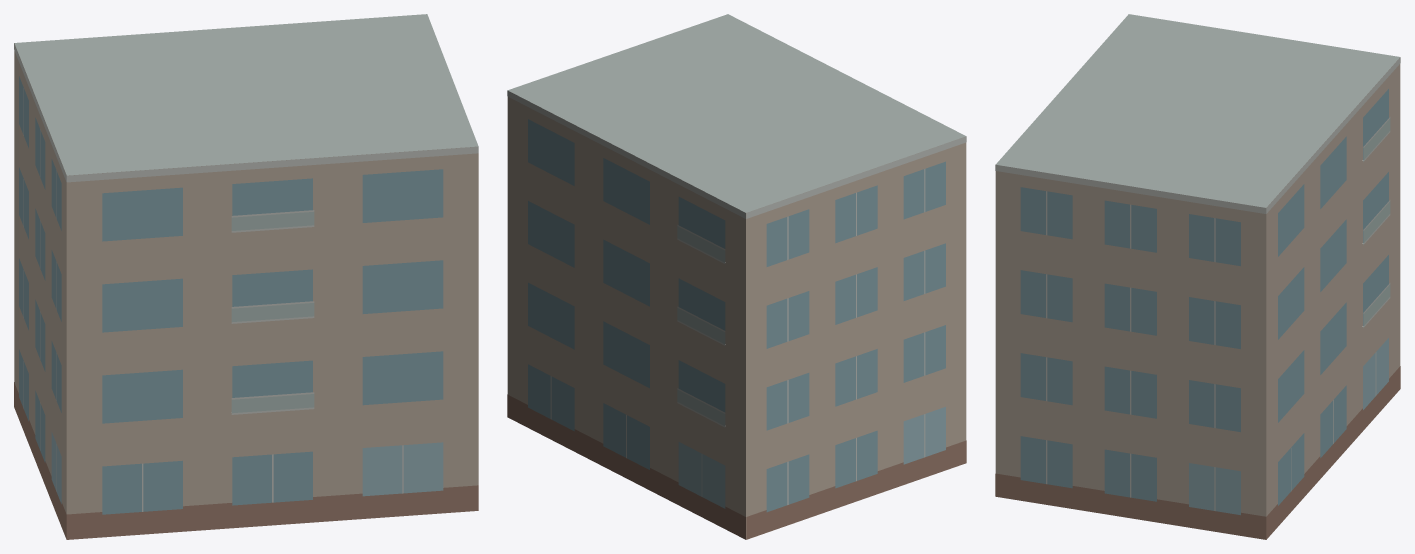
Rendered from survey-upis-32986087.glb.
The picture shows the model from 3 angles, left to right: view 1: azimuth 30°, elevation 25°; view 2: azimuth 150°, elevation 25°; view 3: azimuth 270°, elevation 25°; orthographic projection. The views are drawn at different scales.
Parts seen in each view (by area): view 1: survey-upis-32986087.tmp; view 2: survey-upis-32986087.tmp; view 3: survey-upis-32986087.tmp.
Part boxes in pixels (x1,y1,x2,y2): survey-upis-32986087.tmp: (14, 14, 478, 539); survey-upis-32986087.tmp: (507, 14, 966, 539); survey-upis-32986087.tmp: (995, 14, 1400, 539).
Bounding box in the file's own units: 16.28 × 12.99 × 14.37.
